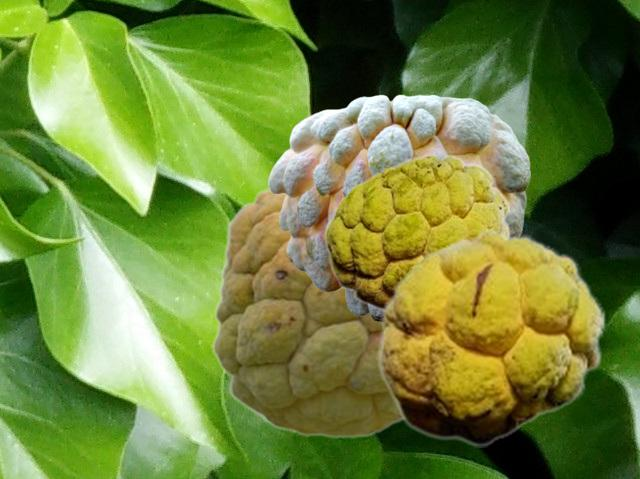atis: (268, 94, 529, 321), (376, 228, 605, 446), (211, 185, 402, 437), (323, 153, 510, 312)
